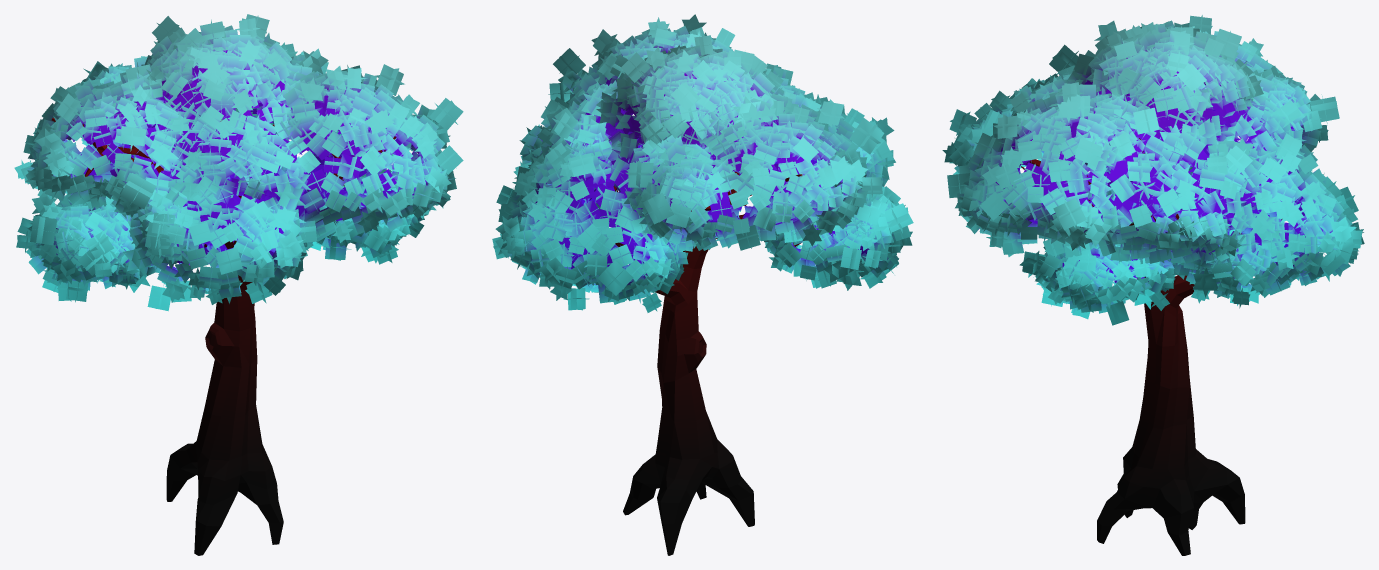
File: Arbol02.fbx
The picture shows the model from 3 angles, left to right: view 1: azimuth 30°, elevation 25°; view 2: azimuth 150°, elevation 25°; view 3: azimuth 270°, elevation 25°; orthographic projection. The views are drawn at different scales.
Parts seen in each view (by area): view 1: SM_Env_Tree_Forest_02_LOD0; view 2: SM_Env_Tree_Forest_02_LOD0; view 3: SM_Env_Tree_Forest_02_LOD0.
Boxes of the visible parts, <box> form: SM_Env_Tree_Forest_02_LOD0: <box>14,14,463,555</box>; SM_Env_Tree_Forest_02_LOD0: <box>492,14,913,555</box>; SM_Env_Tree_Forest_02_LOD0: <box>942,15,1364,555</box>.
Size of the model in its own units: 1043 by 950 by 1253.
